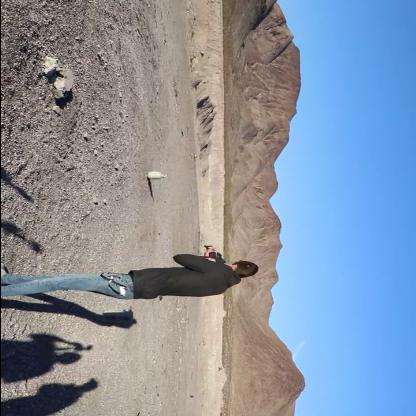long weapon: (194, 239, 230, 266)
